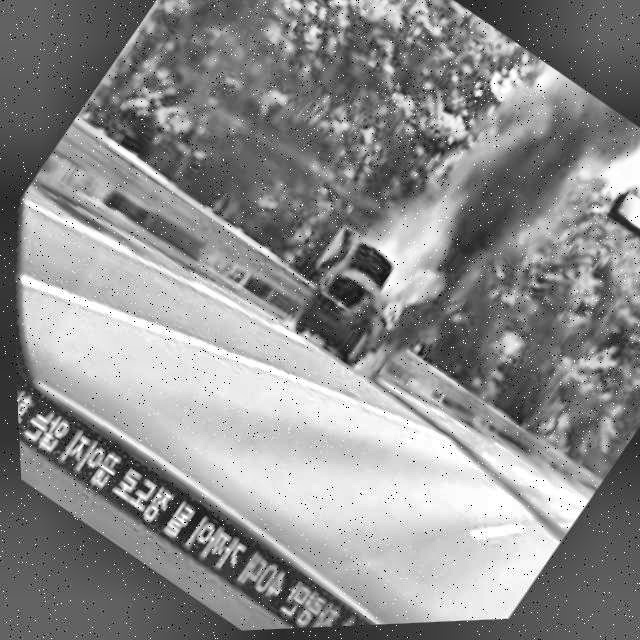Fire: (365, 238, 451, 330), (349, 343, 389, 385)
Smoke: (375, 45, 640, 340)
